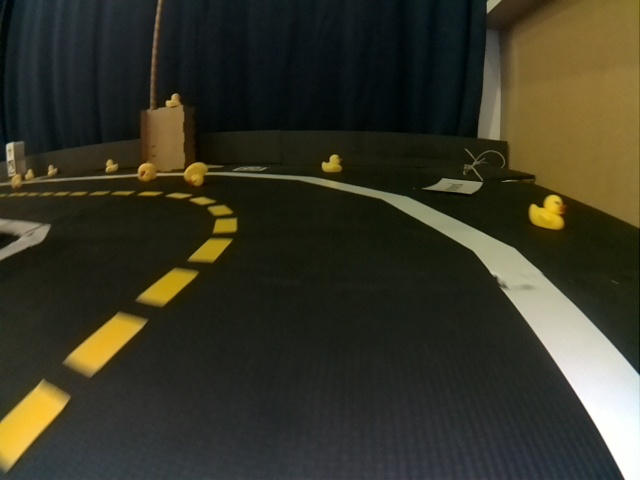Duckie: (531, 195, 565, 229), (184, 162, 207, 186), (321, 154, 339, 172), (139, 164, 155, 181), (165, 93, 180, 106), (105, 159, 116, 171), (48, 165, 58, 176), (12, 175, 21, 186), (26, 170, 35, 179)
QR code: (234, 164, 265, 172)
